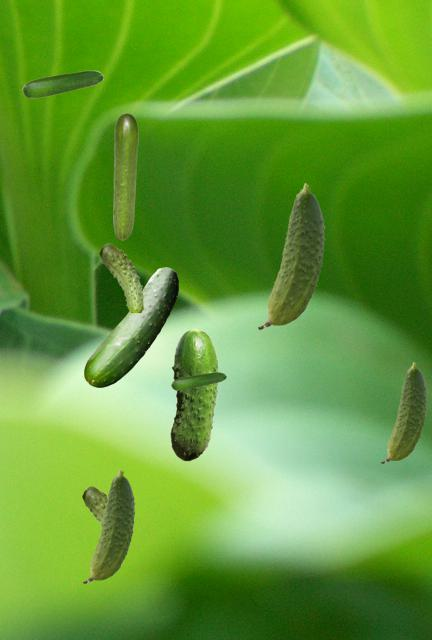cucumber: (84, 267, 177, 386), (258, 183, 324, 328), (170, 328, 218, 460), (83, 469, 134, 582), (381, 362, 426, 462), (113, 113, 137, 239), (99, 243, 143, 311), (22, 70, 102, 97), (82, 486, 106, 526), (171, 372, 225, 389)
